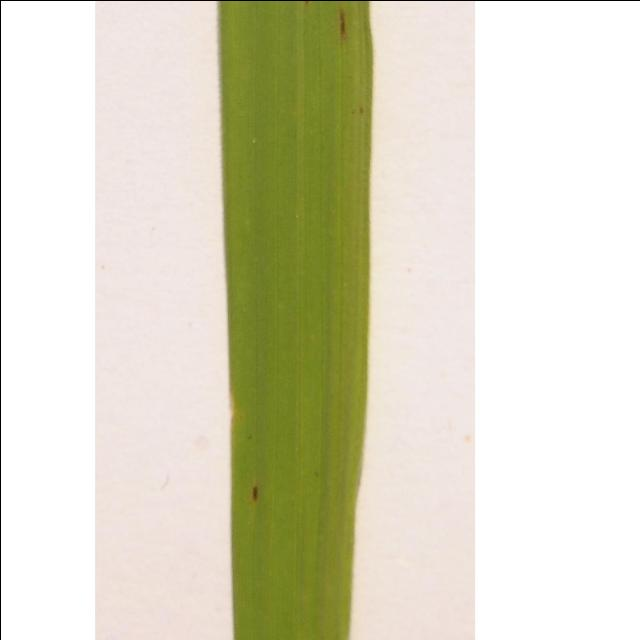Brown spot: (332, 0, 357, 58), (243, 478, 270, 512)
